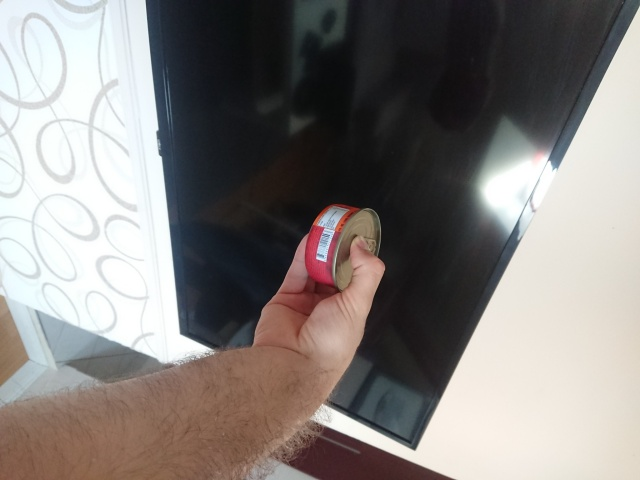Gavrilovic Pork Liver Pate 100g: (301, 201, 383, 298)
